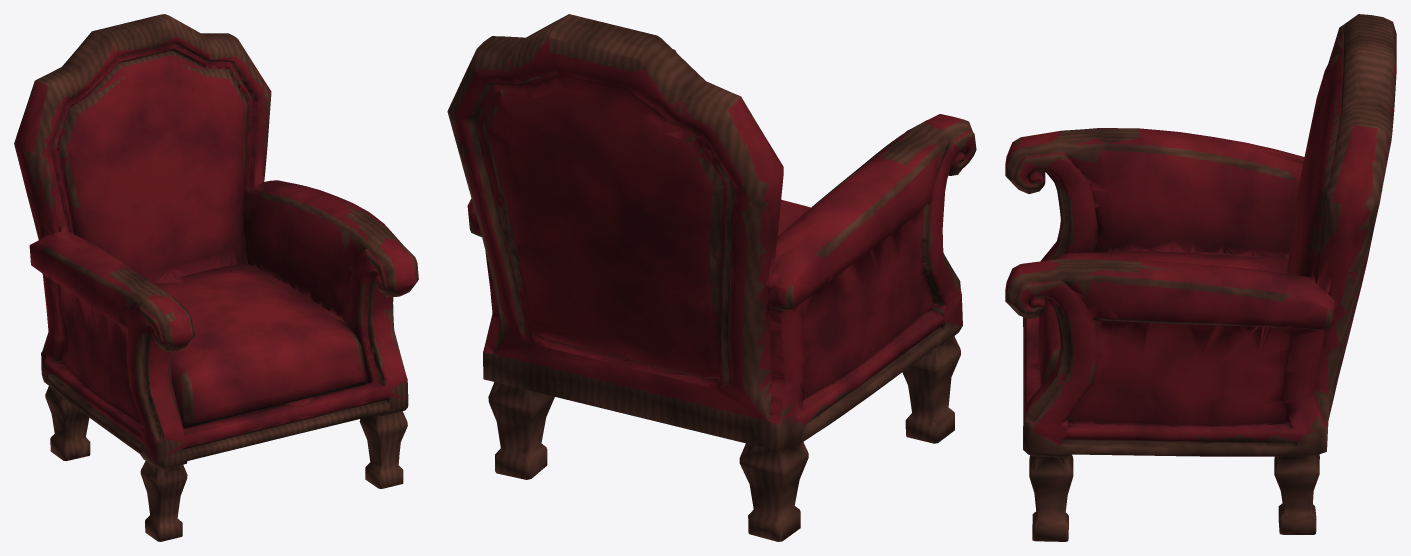
File: Armchair.glb
The picture shows the model from 3 angles, left to right: view 1: azimuth 30°, elevation 25°; view 2: azimuth 150°, elevation 25°; view 3: azimuth 270°, elevation 25°; orthographic projection. The views are drawn at different scales.
Parts seen in each view (by area): view 1: Armchair; view 2: Armchair; view 3: Armchair.
Boxes of the visible parts, bbox=[...] form: Armchair: bbox=[14, 14, 418, 541]; Armchair: bbox=[447, 14, 976, 541]; Armchair: bbox=[1005, 14, 1396, 541].
Size of the model in its own units: 0.8208 by 1.1 by 0.8852.
Materials: 1 (1 with a texture image).
